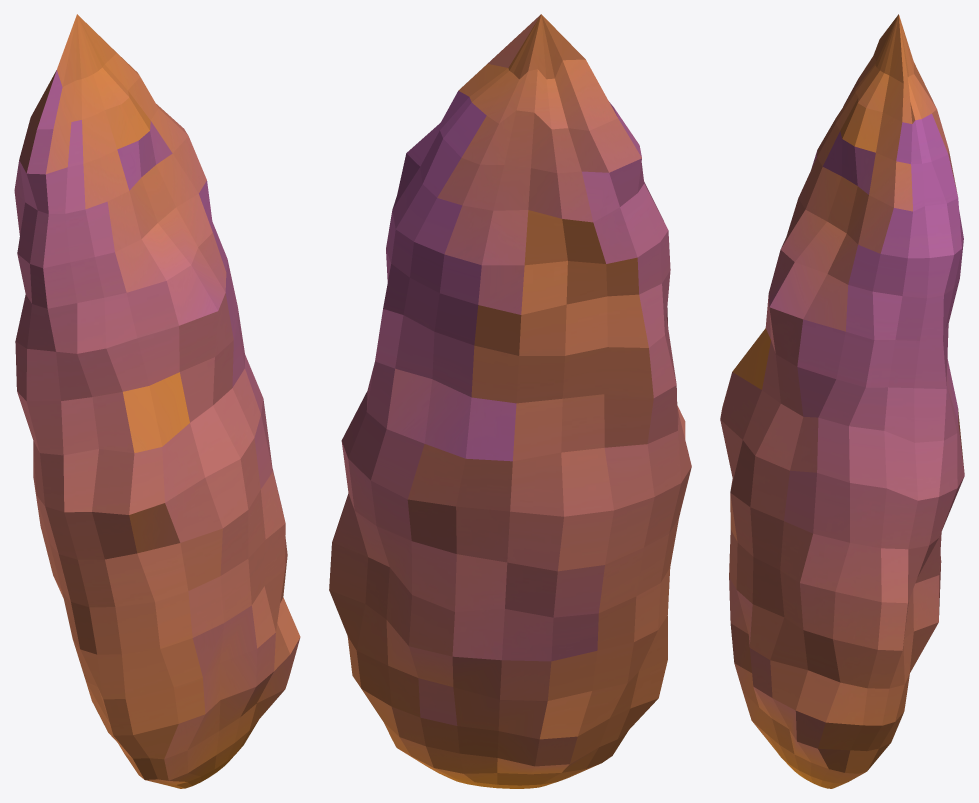
File: Crystal_Ametrine.fbx
The picture shows the model from 3 angles, left to right: view 1: azimuth 30°, elevation 25°; view 2: azimuth 150°, elevation 25°; view 3: azimuth 270°, elevation 25°; orthographic projection. The views are drawn at different scales.
Visible parts, largest first — view 1: Crystal_Ametrine; view 2: Crystal_Ametrine; view 3: Crystal_Ametrine.
Boxes of the visible parts, bbox=[...] form: Crystal_Ametrine: bbox=[14, 14, 300, 788]; Crystal_Ametrine: bbox=[329, 14, 691, 788]; Crystal_Ametrine: bbox=[720, 14, 964, 788].
Bounding box in the file's own units: 0.3868 × 0.9872 × 0.3019.
1 material, 1 textured.
